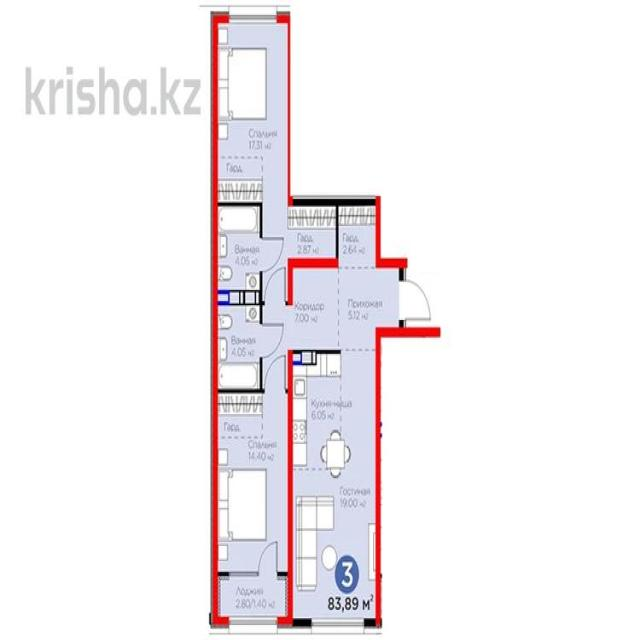balcony: (215, 576, 289, 619)
bathroom: (213, 208, 263, 302), (214, 303, 263, 391)
hallway: (291, 266, 397, 348)
living_room: (212, 12, 290, 208), (214, 393, 293, 573)
other: (337, 203, 378, 267)
studio: (290, 355, 379, 623)
